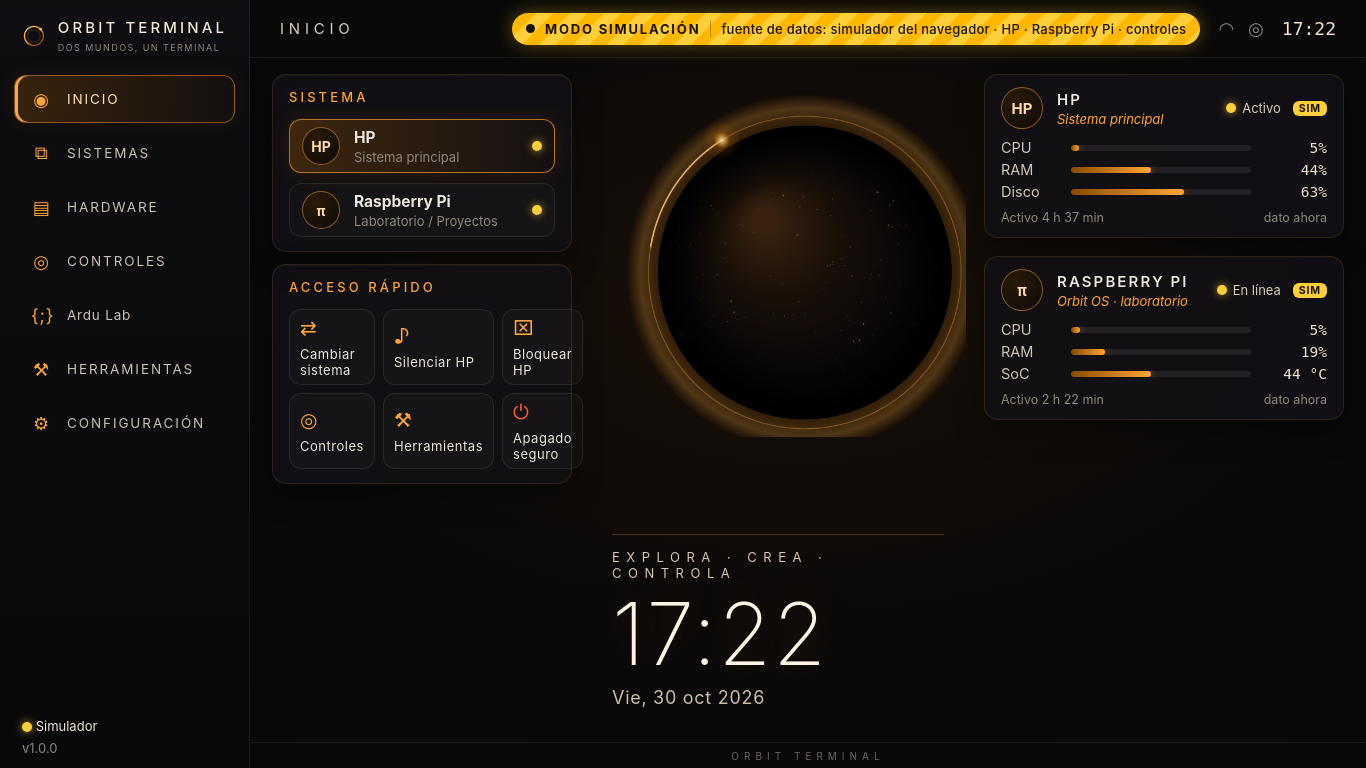
App › con el simulador muestra el distintivo MODO SIMULACIÓN
Expected: the text "MODO SIMULACIÓN" is shown, [545,20,700,36]
Expected: the button "{;} Ardu Lab" is shown, [14,291,235,339]
Click the button "⚒ Herramientas" below "DOS MUNDOS, UN TERMINAL".
click(124, 369)  # box [14,345,235,393]
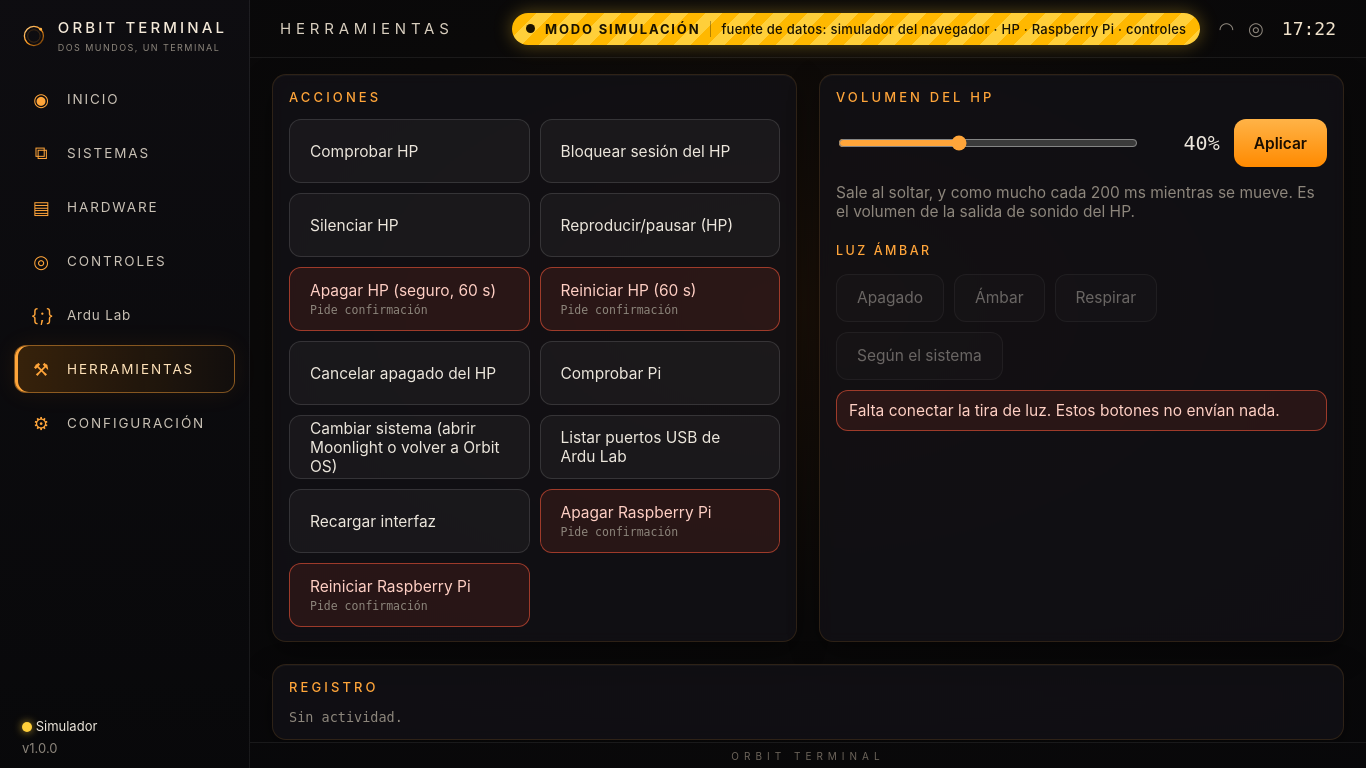
Now the button "Apagado" is disabled, box [836,274,944,322]
Now the text "Falta conectar la tira de luz. Estos botones no envían nada." is shown, box [836,390,1327,430]
Click the button "◎ Controles".
click(124, 261)  # box [14,237,235,285]
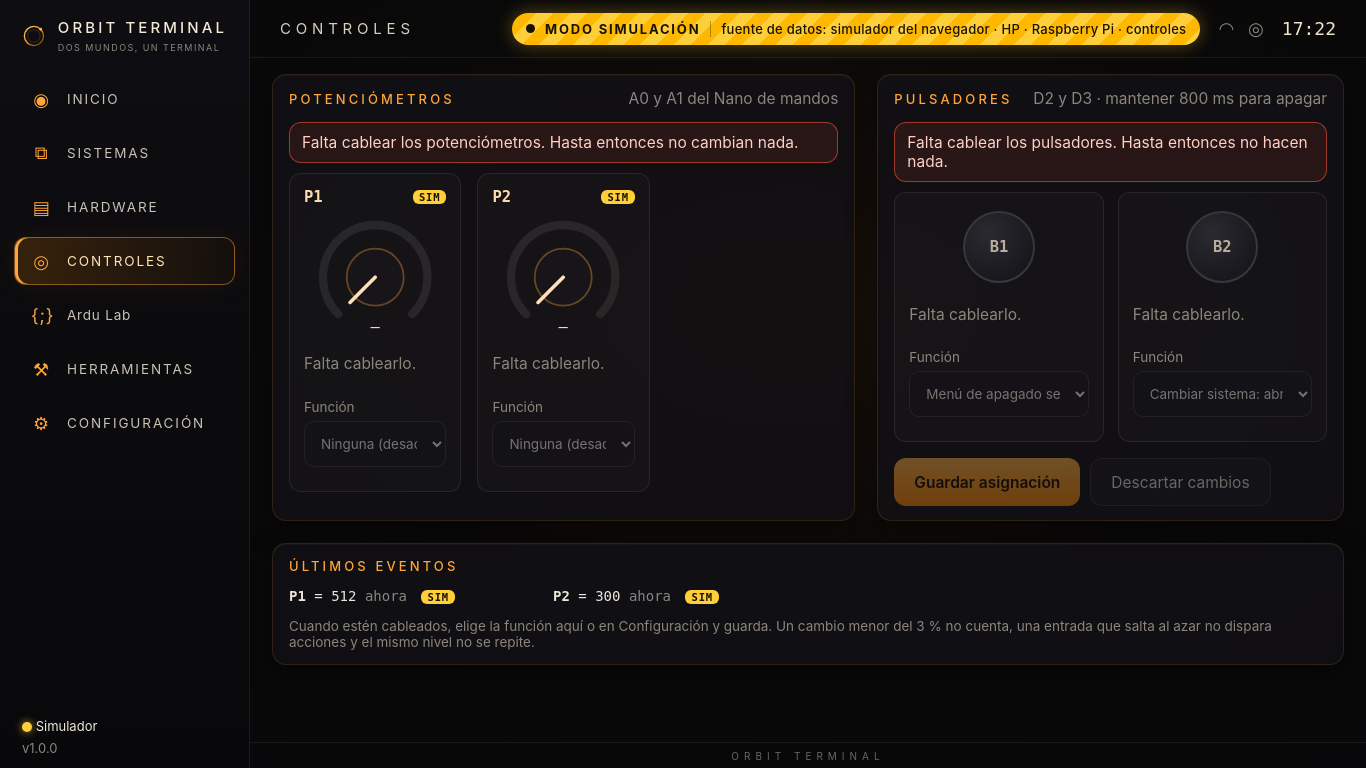
Now the 3rd dropdown labelled "Función" is shown, box [304,421,446,467]
Now the text "Falta cablear los potenciómetros" is shown, box [302,133,798,152]
